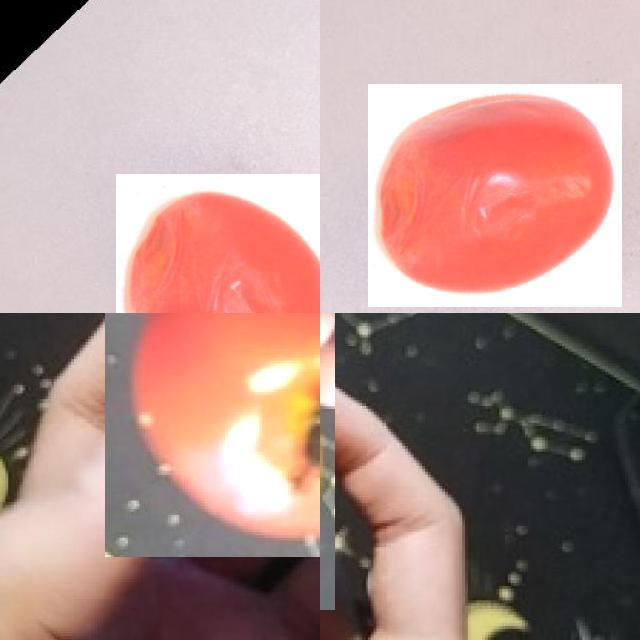Fresh Tomato: (105, 313, 320, 557)
Rotten Tomato: (368, 84, 622, 307), (116, 174, 320, 313)
